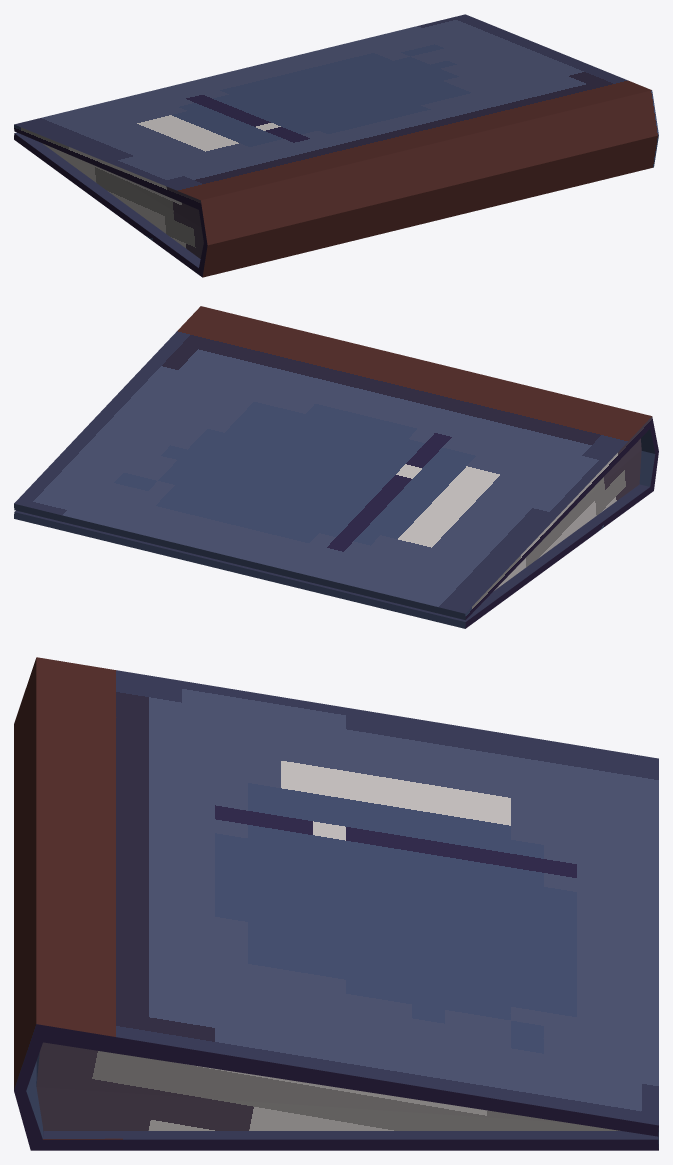
File: Document3.fbx
3 renders of one model, top to bottom at view 1: azimuth 30°, elevation 25°; view 2: azimuth 150°, elevation 25°; view 3: azimuth 270°, elevation 25°, orthographic. The views are drawn at different scales.
Visible parts, largest first — view 1: 3; view 2: 3; view 3: 3.
Boxes of the visible parts, box(x1,y1,x2,y2) form: 3: box(14, 14, 658, 277); 3: box(14, 306, 658, 628); 3: box(14, 657, 658, 1150).
Size of the model in its own units: 268 by 43.17 by 199.
Materials: 1 (1 with a texture image).
